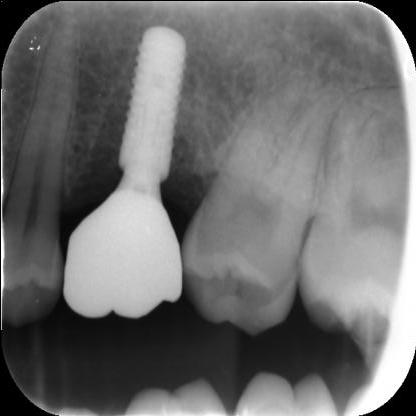ITI: (109, 17, 191, 184)
